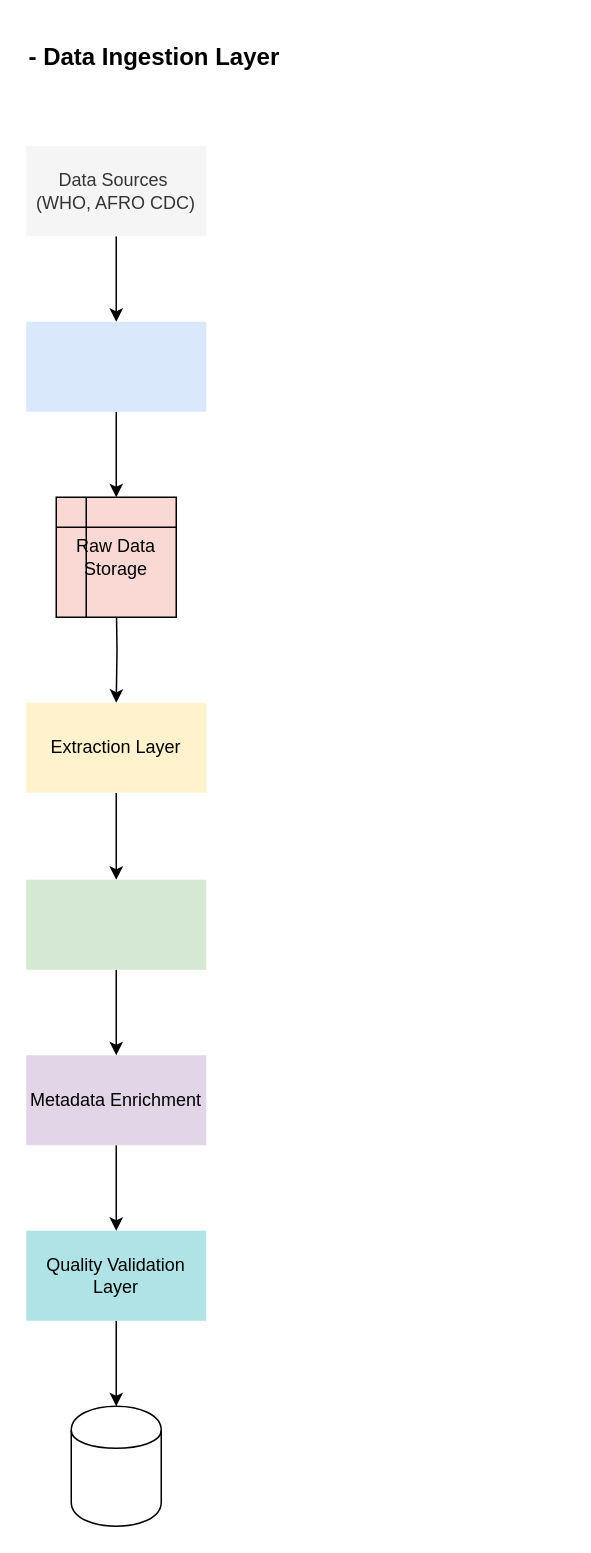
Some shapes in this 591 by 1553 pixel diagram are drawn without their labels. Here are the shapes that lost their labels. From the top down, the box of each, then its label:
(26, 321, 206, 411): Scraper / Downloader
(26, 879, 206, 969): Cleaning & Normalization
(70, 1405, 161, 1526): Processed Data store
